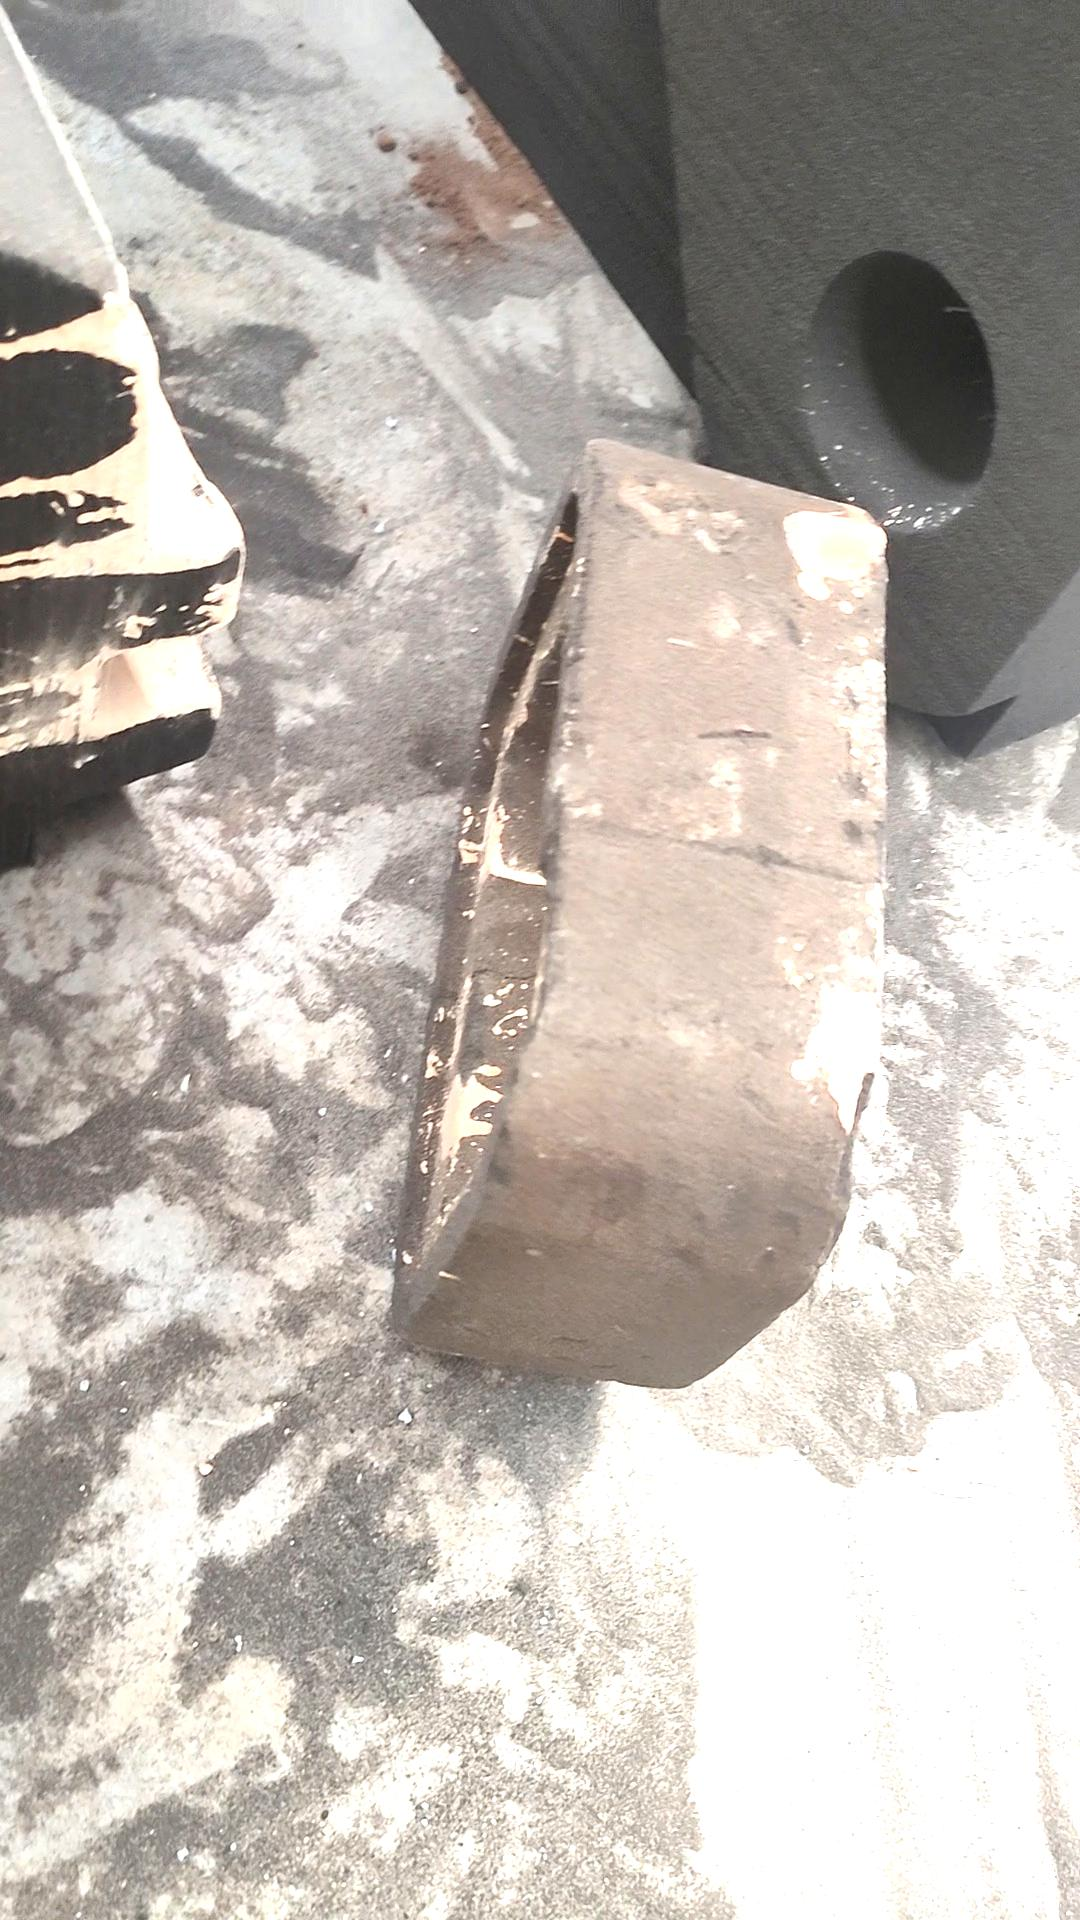pouring hole: (803, 252, 997, 534)
